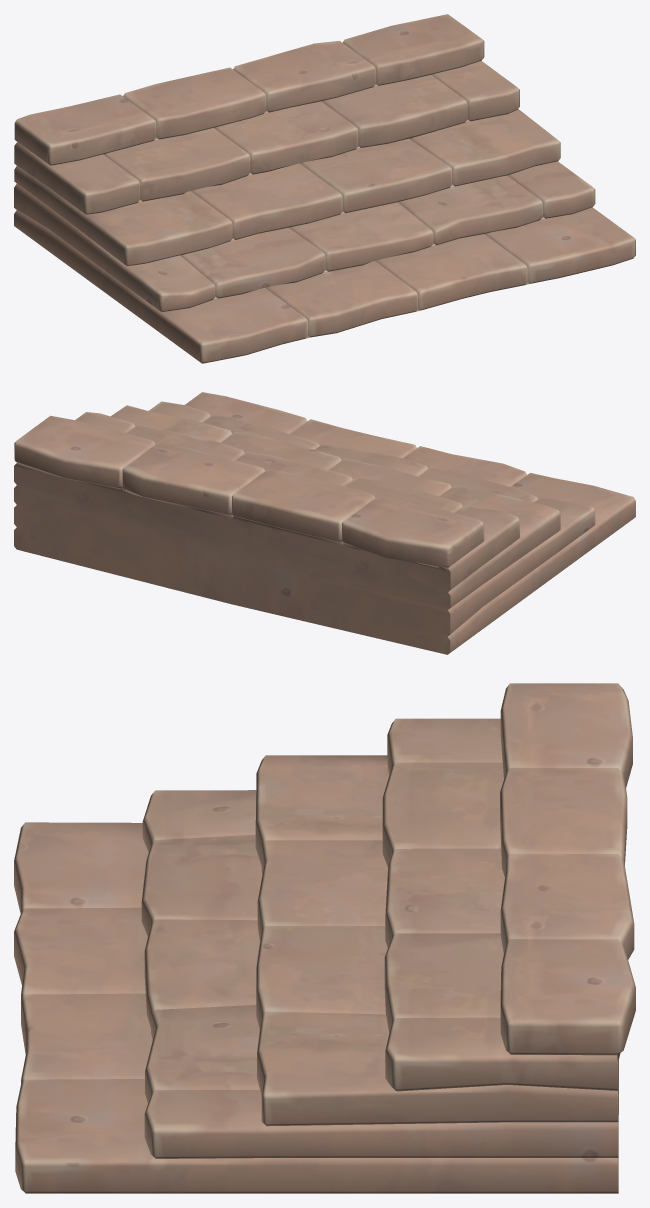
Rendered from SM_StoneStairs_01.fbx.
3 renders of one model, top to bottom at view 1: azimuth 30°, elevation 25°; view 2: azimuth 150°, elevation 25°; view 3: azimuth 270°, elevation 25°, orthographic. The views are drawn at different scales.
Visible parts, largest first — view 1: SM_StoneStairs_01; view 2: SM_StoneStairs_01; view 3: SM_StoneStairs_01.
Part boxes in pixels (box(x1,y1,x2,y2)): SM_StoneStairs_01: box(14, 14, 635, 363); SM_StoneStairs_01: box(14, 392, 635, 654); SM_StoneStairs_01: box(14, 683, 635, 1193).
Size of the model in its own units: 401 by 310 by 97.8.
